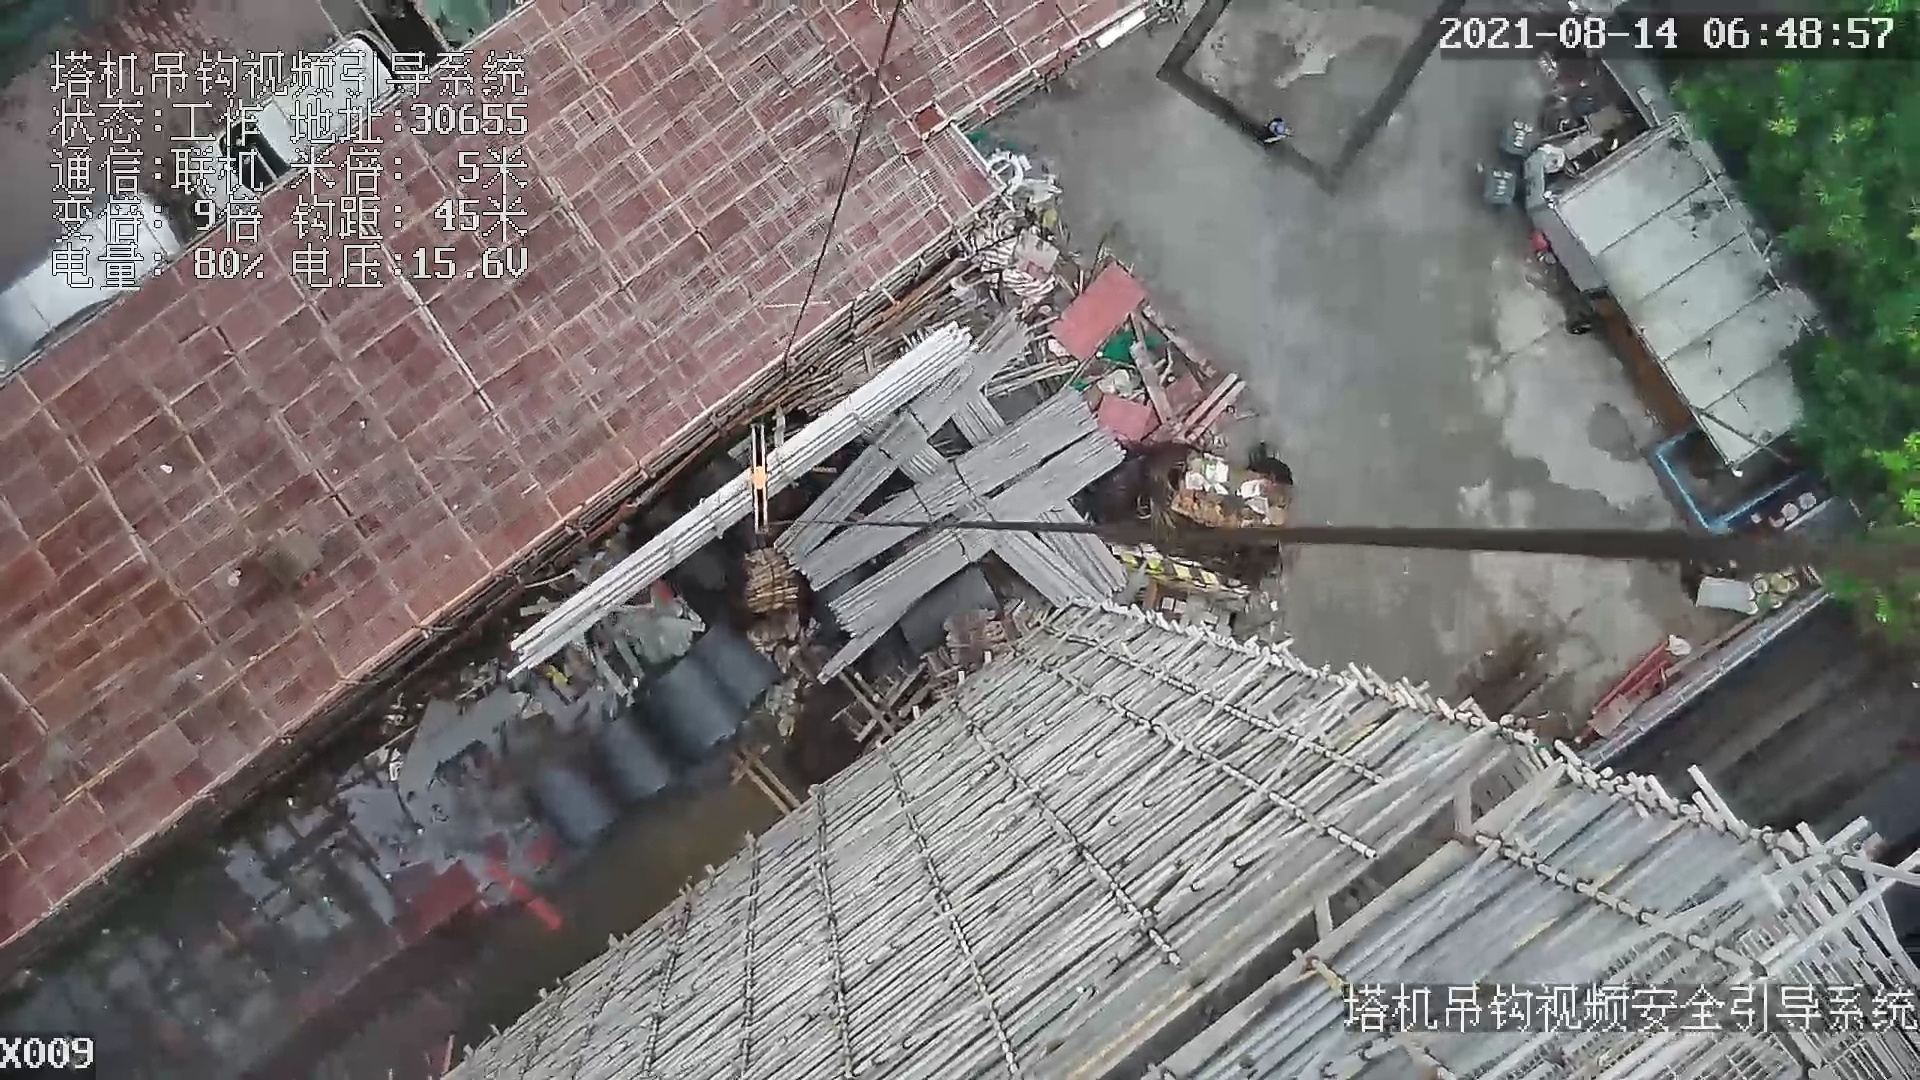hook: (741, 417, 782, 535)
hopper: (1644, 420, 1818, 543)
person: (1262, 116, 1295, 149)
